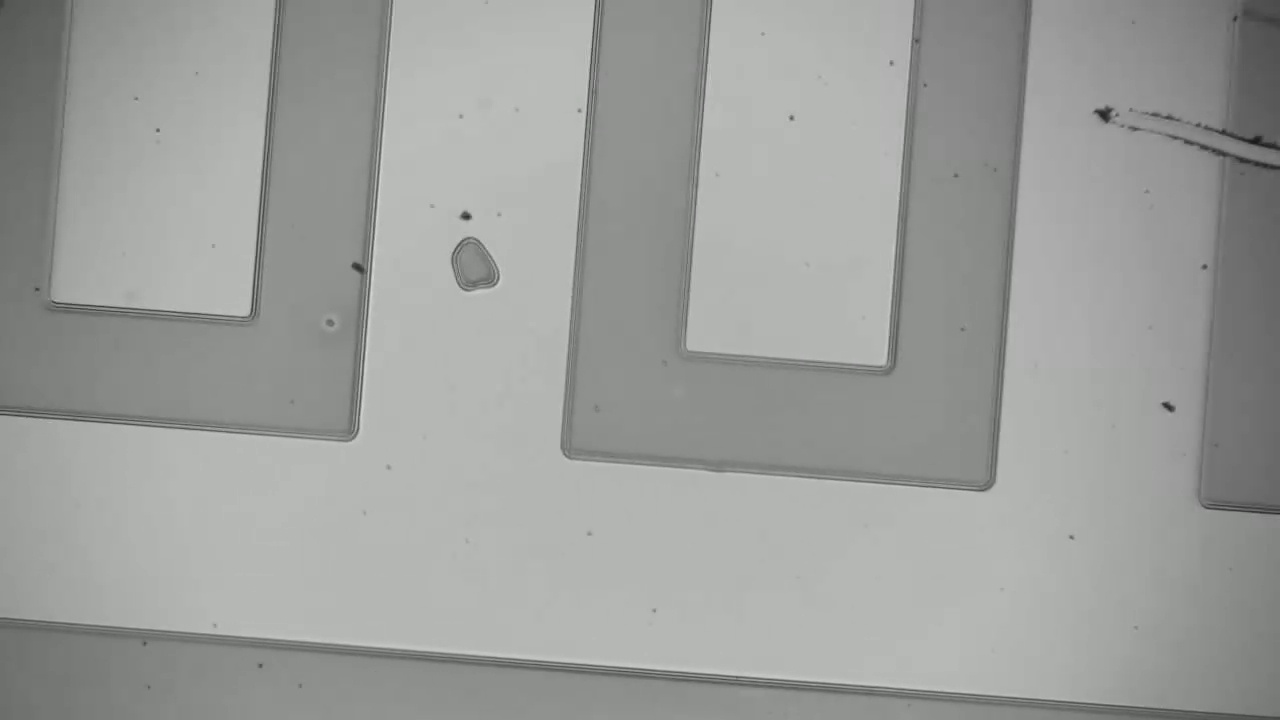Short_circuit: (1192, 112, 1279, 174)
